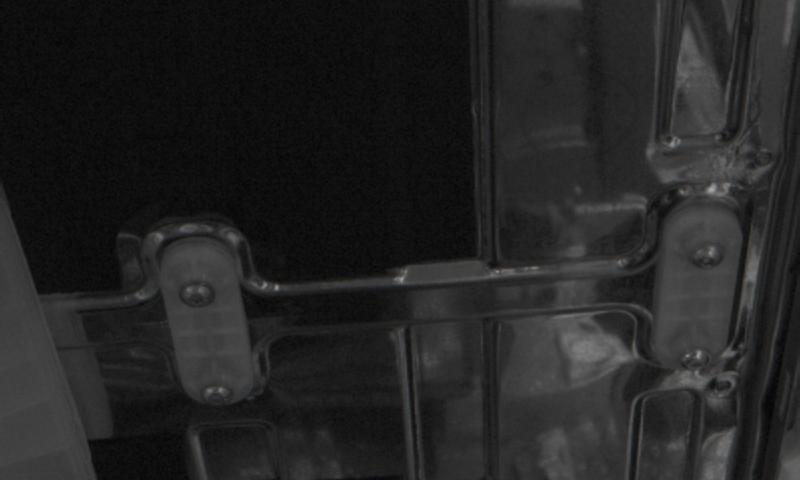vida-ok: (177, 274, 223, 318), (683, 238, 730, 281), (675, 339, 721, 378), (198, 377, 243, 416)
